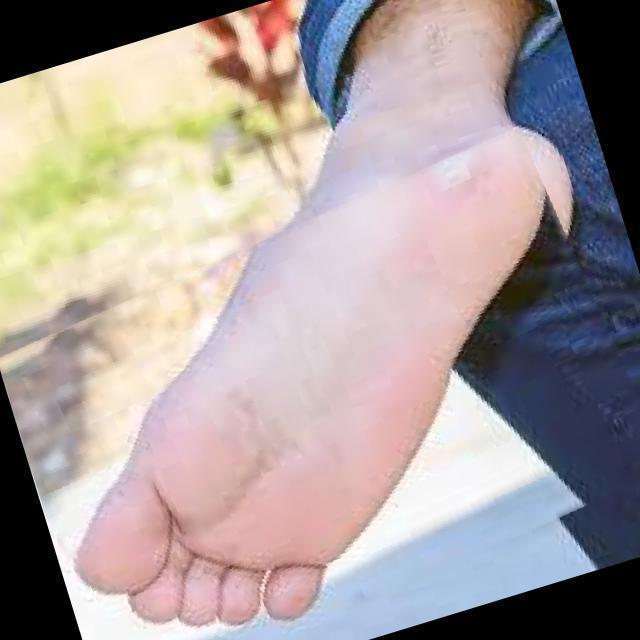No_Shoes: (81, 111, 586, 640)
